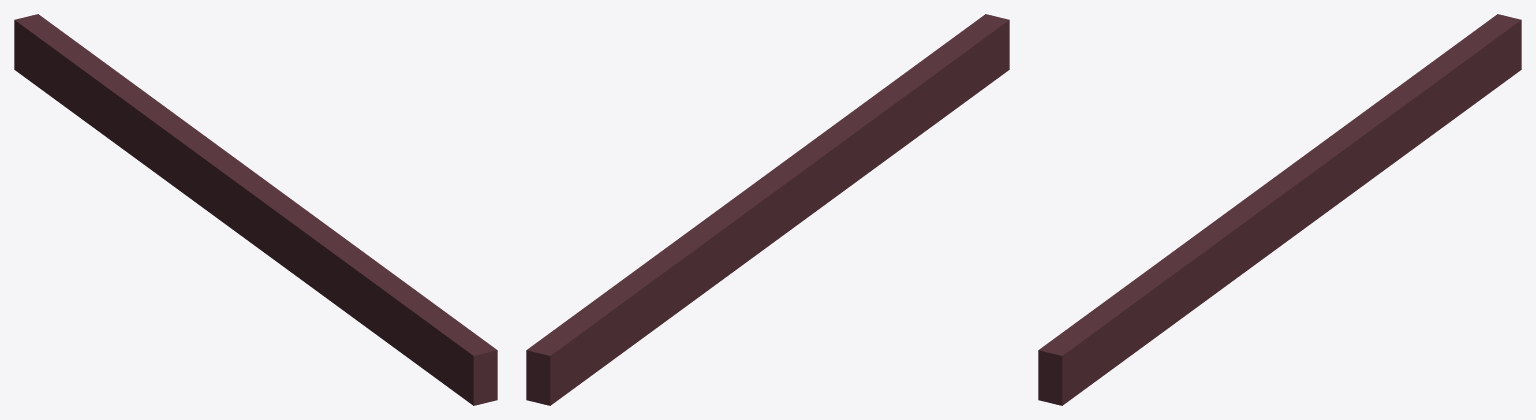
File: racing-plastic-barriers.glb
3 renders of one model, left to right at view 1: azimuth 30°, elevation 25°; view 2: azimuth 150°, elevation 25°; view 3: azimuth 330°, elevation 25°, orthographic.
Visible parts, largest first — view 1: plastic-barriers-20m-low-poly; view 2: plastic-barriers-20m-low-poly; view 3: plastic-barriers-20m-low-poly.
Part boxes in pixels (box(x1,y1,x2,y2)): plastic-barriers-20m-low-poly: box(14, 14, 497, 405); plastic-barriers-20m-low-poly: box(526, 14, 1009, 405); plastic-barriers-20m-low-poly: box(1038, 14, 1521, 405).
Bounding box in the file's own units: 0.6 × 1.2 × 20.
